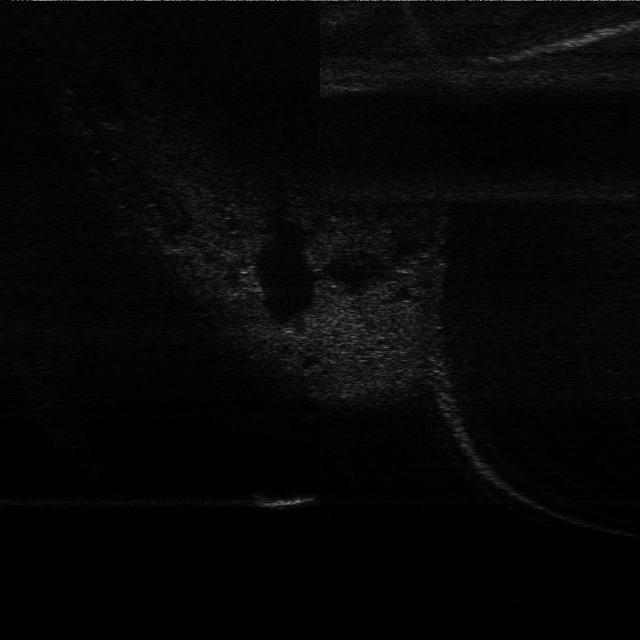square cage: (253, 485, 323, 515)
